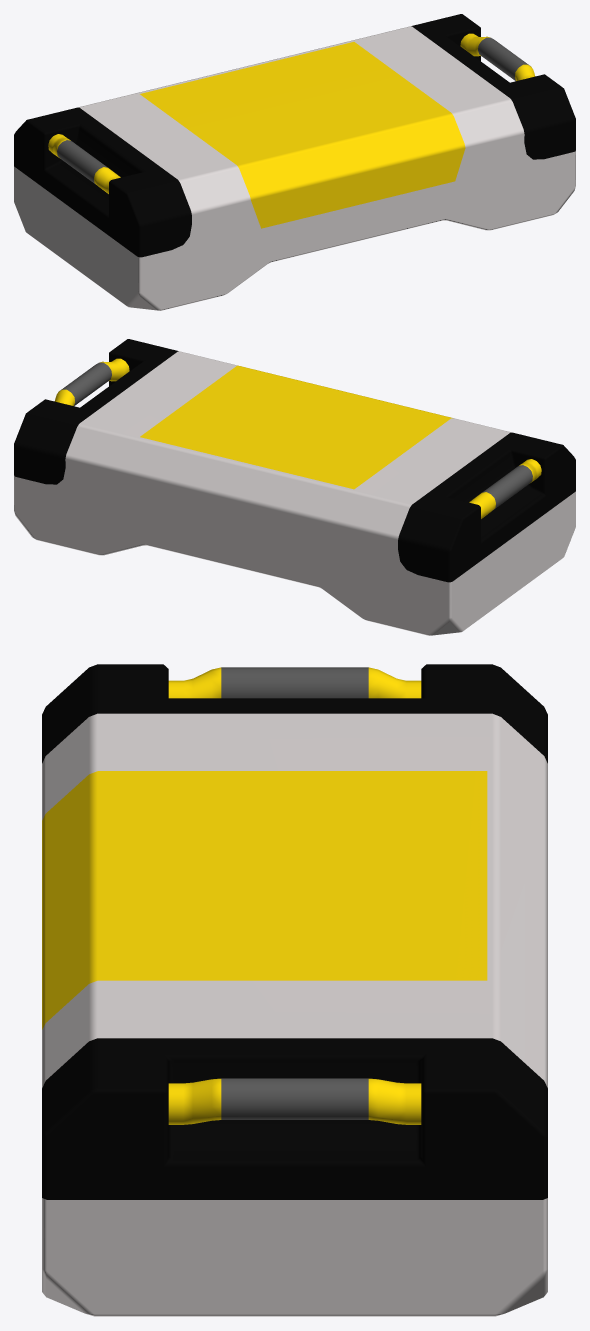
The model's file is BoxPlatform.fbx.
3 views of the same model, one above another, from view 1: azimuth 30°, elevation 25°; view 2: azimuth 150°, elevation 25°; view 3: azimuth 270°, elevation 25° (orthographic). The views are drawn at different scales.
Visible parts, largest first — view 1: Container002; view 2: Container002; view 3: Container002.
Part boxes in pixels (box(x1,y1,x2,y2)): Container002: box(14, 14, 575, 310); Container002: box(14, 339, 575, 635); Container002: box(42, 664, 547, 1316).
Size of the model in its own units: 249 by 62.44 by 124.
